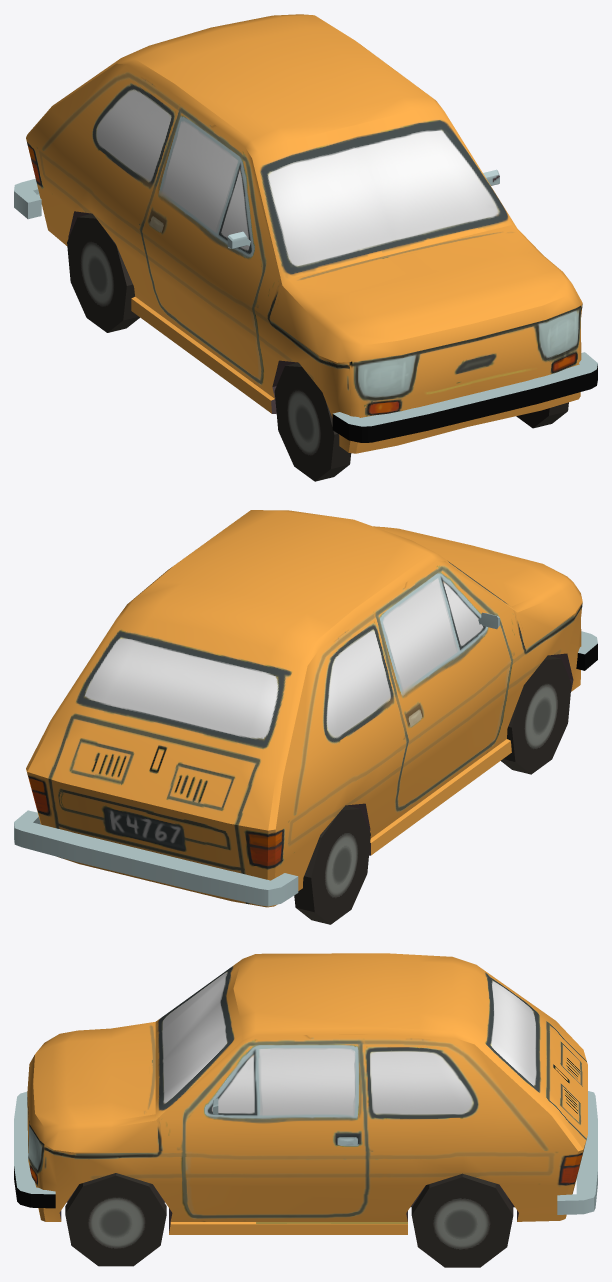
File: maluch-final.fbx
3 views of the same model, one above another, from view 1: azimuth 30°, elevation 25°; view 2: azimuth 150°, elevation 25°; view 3: azimuth 270°, elevation 25° (orthographic). The views are drawn at different scales.
Parts seen in each view (by area): view 1: maluch; view 2: maluch; view 3: maluch.
Part boxes in pixels (box(x1,y1,x2,y2)): maluch: box(14, 14, 597, 481); maluch: box(14, 510, 597, 924); maluch: box(14, 953, 597, 1267).
Bounding box in the file's own units: 138 × 134 × 303.
